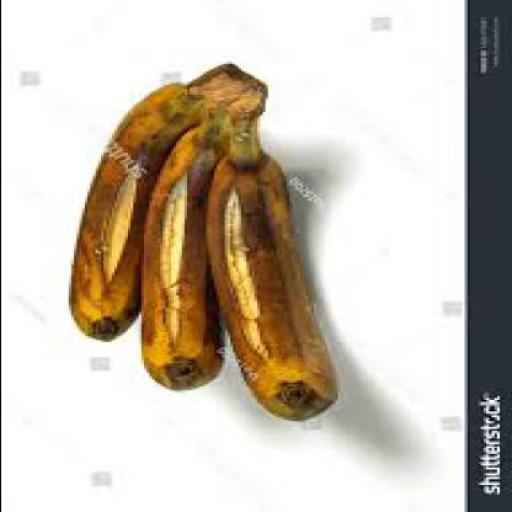biodegradable: (199, 69, 335, 423), (137, 66, 264, 394), (64, 85, 202, 343)
